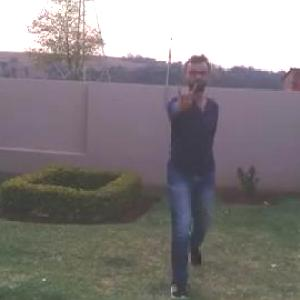takeoff-hand: (170, 82, 200, 122)
